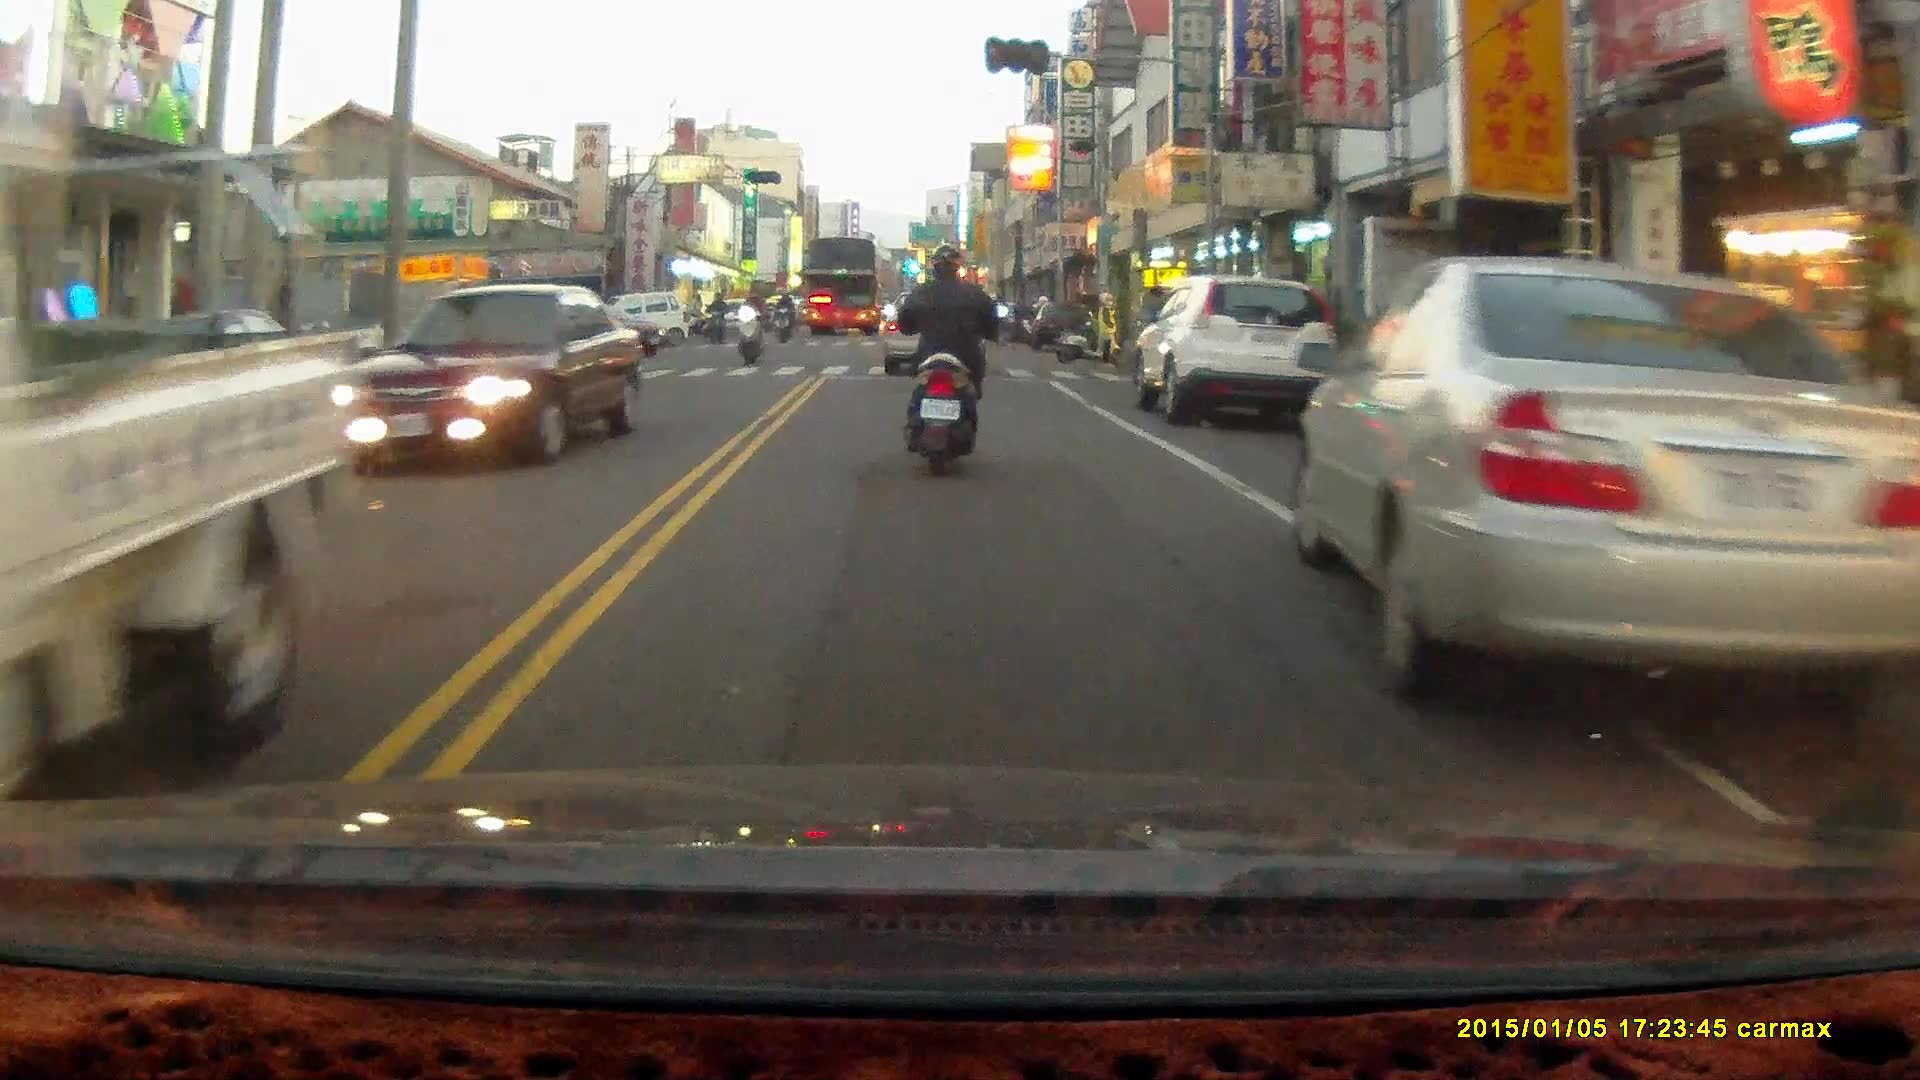pedestrian: (1093, 289, 1119, 368)
rider: (893, 242, 1011, 477), (734, 285, 766, 365), (704, 289, 726, 345), (774, 288, 794, 348)
vehicle: (1296, 255, 1920, 705), (313, 282, 654, 476), (1137, 275, 1327, 424), (801, 239, 886, 339), (881, 295, 982, 378)
